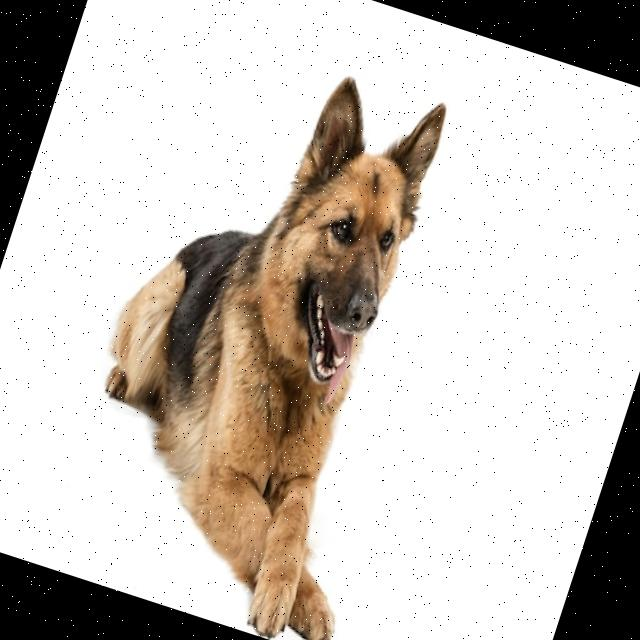Dog: (38, 25, 500, 640)
